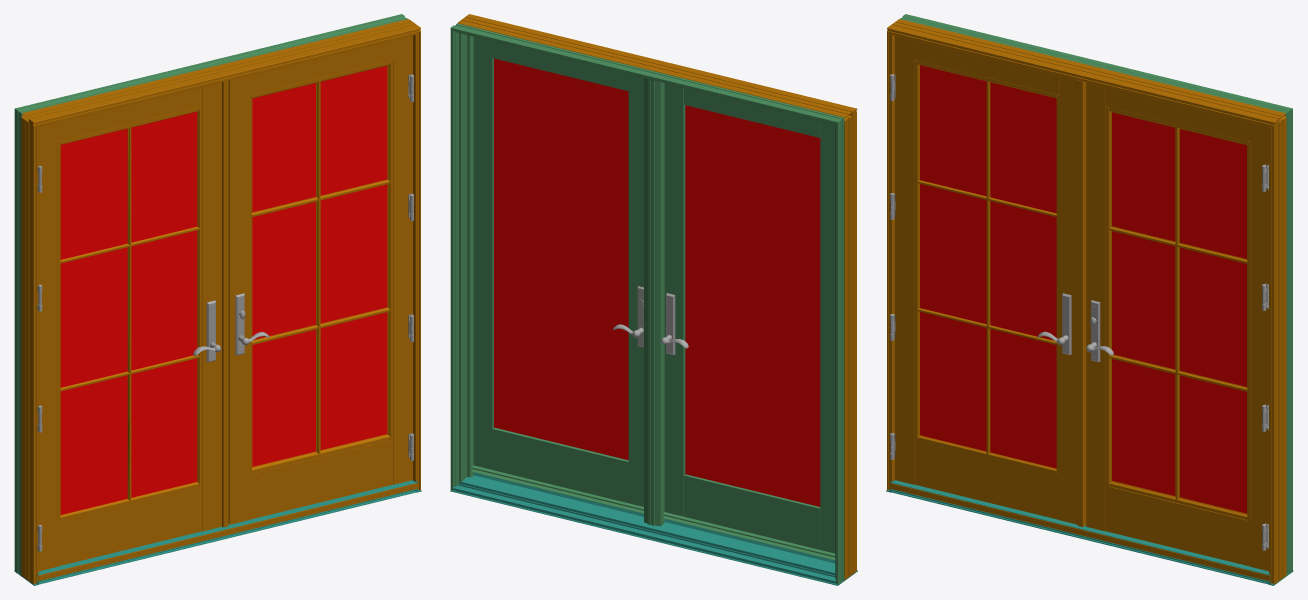
Rendered from 02_D_FrenchwoodInswingPatio_v02.gltf.
3 renders of one model, left to right at view 1: azimuth 30°, elevation 25°; view 2: azimuth 150°, elevation 25°; view 3: azimuth 330°, elevation 25°, orthographic.
Visible parts, largest first — view 1: 02_D_Glass, 02_D_Interior, 02_D_Exterior, 02_D_Sill, 02_D_Hardware; view 2: 02_D_Glass, 02_D_Exterior, 02_D_Interior, 02_D_Sill, 02_D_Hardware; view 3: 02_D_Glass, 02_D_Interior, 02_D_Exterior, 02_D_Sill, 02_D_Hardware.
Part boxes in pixels (left/top/right/bottom): 02_D_Glass: left=60, top=65, right=387, bottom=514; 02_D_Interior: left=21, top=19, right=420, bottom=584; 02_D_Exterior: left=14, top=14, right=407, bottom=574; 02_D_Sill: left=14, top=480, right=421, bottom=585; 02_D_Hardware: left=36, top=74, right=413, bottom=551; 02_D_Glass: left=494, top=58, right=820, bottom=506; 02_D_Exterior: left=450, top=23, right=844, bottom=584; 02_D_Interior: left=458, top=14, right=857, bottom=579; 02_D_Sill: left=450, top=472, right=857, bottom=585; 02_D_Hardware: left=613, top=286, right=688, bottom=354; 02_D_Glass: left=920, top=65, right=1246, bottom=513; 02_D_Interior: left=887, top=19, right=1286, bottom=584; 02_D_Exterior: left=900, top=14, right=1292, bottom=574; 02_D_Sill: left=886, top=480, right=1293, bottom=585; 02_D_Hardware: left=890, top=74, right=1268, bottom=550.
Size of the model in its own units: 1.84 by 2.1 by 0.2134.
